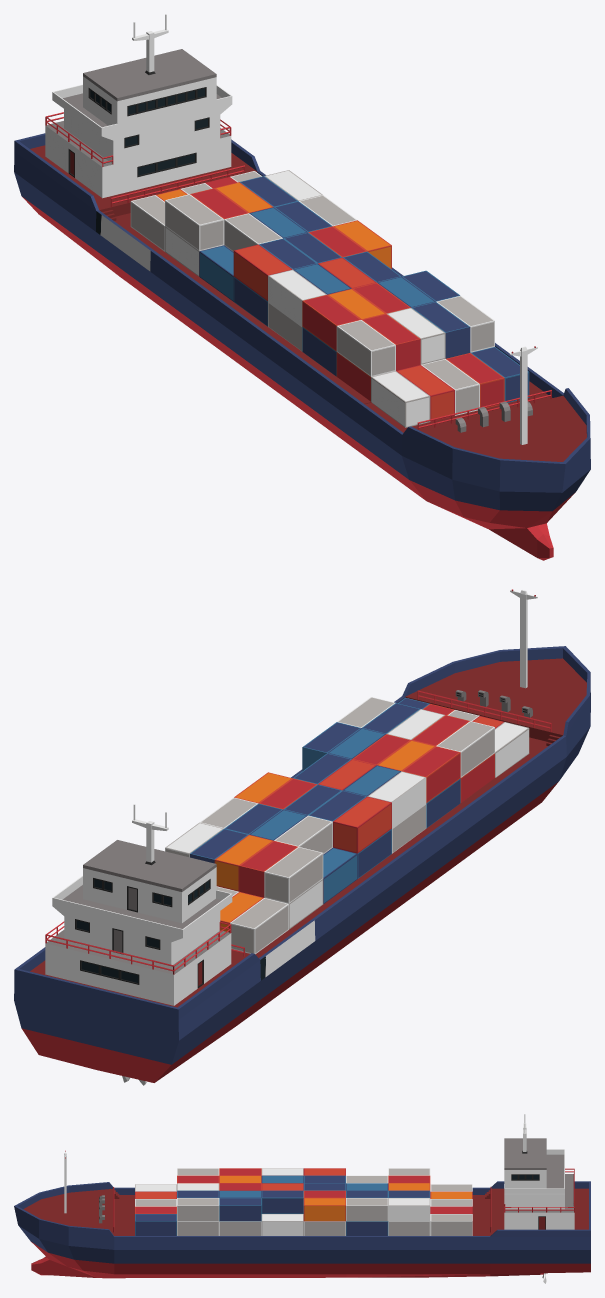
Rendered from ship-cargo.glb.
The picture shows the model from 3 angles, top to bottom: view 1: azimuth 30°, elevation 25°; view 2: azimuth 150°, elevation 25°; view 3: azimuth 270°, elevation 25°; orthographic projection. The views are drawn at different scales.
Parts seen in each view (by area): view 1: ship-cargo-base, ship-cargos; view 2: ship-cargo-base, ship-cargos; view 3: ship-cargo-base, ship-cargos.
Boxes of the visible parts, <box> form: ship-cargo-base: <box>14,14,590,560</box>; ship-cargos: <box>130,170,529,427</box>; ship-cargo-base: <box>14,589,590,1085</box>; ship-cargos: <box>165,697,529,954</box>; ship-cargo-base: <box>14,1114,590,1283</box>; ship-cargos: <box>135,1168,472,1235</box>.
Size of the model in its own units: 16.65 by 25.43 by 81.97.
1 material, 1 textured.
